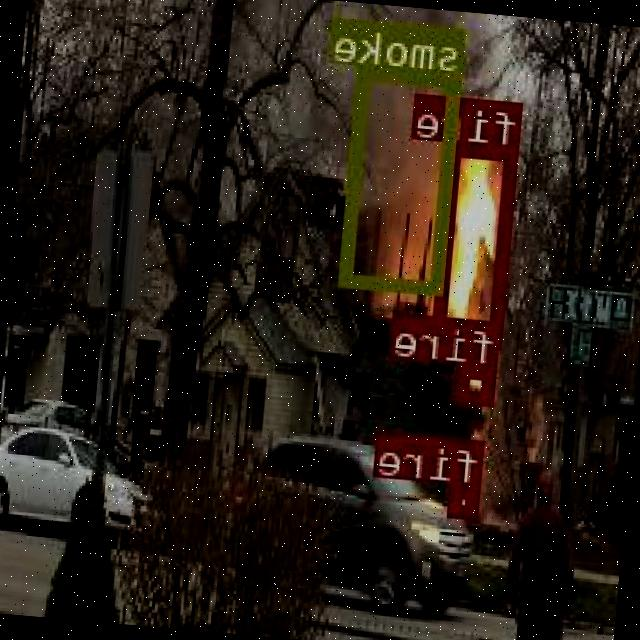fire: (434, 140, 520, 346), (458, 364, 498, 402), (449, 484, 482, 516)
smoke: (340, 63, 465, 292)
